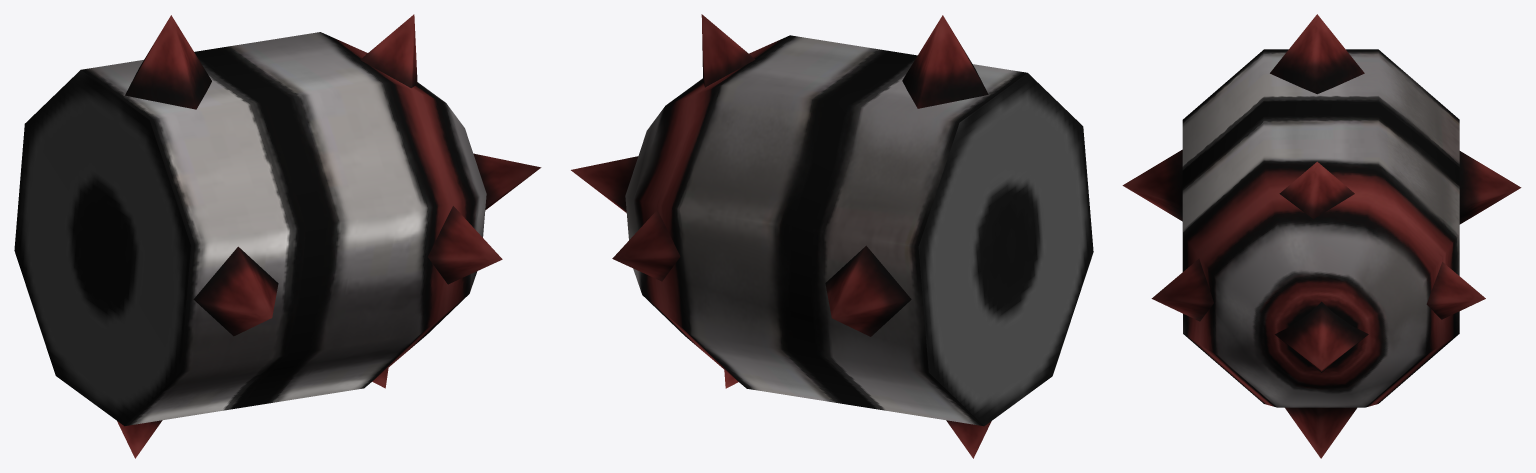
Rendered from WP_0H_Fist04.FBX.
3 views of the same model, side by side, from view 1: azimuth 30°, elevation 25°; view 2: azimuth 150°, elevation 25°; view 3: azimuth 270°, elevation 25° (orthographic). The views are drawn at different scales.
Parts seen in each view (by area): view 1: WP_0H_Fist04; view 2: WP_0H_Fist04; view 3: WP_0H_Fist04.
Boxes of the visible parts, box(x1,y1,x2,y2) form: WP_0H_Fist04: box(14, 14, 541, 458); WP_0H_Fist04: box(571, 14, 1093, 458); WP_0H_Fist04: box(1122, 14, 1521, 458).
Bounding box in the file's own units: 36.1 × 33.44 × 33.16.
1 material, 1 textured.
